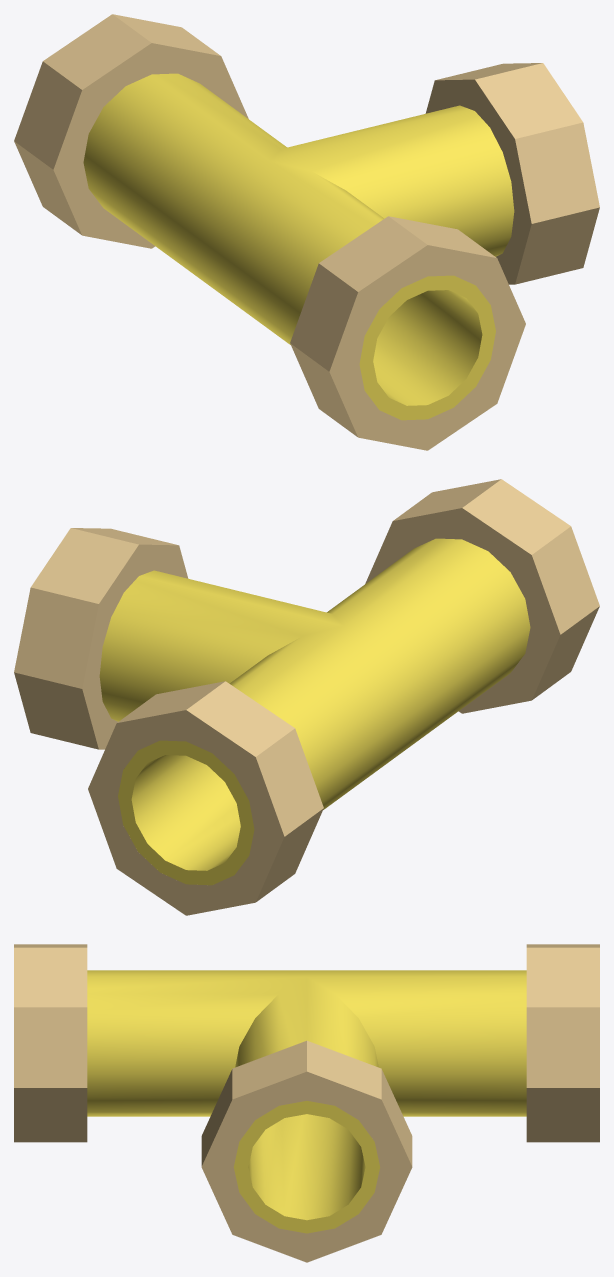
The model's file is pipe_2m_T.fbx.
3 renders of one model, top to bottom at view 1: azimuth 30°, elevation 25°; view 2: azimuth 150°, elevation 25°; view 3: azimuth 270°, elevation 25°, orthographic. The views are drawn at different scales.
Visible parts, largest first — view 1: Vert.001, Vert.004, Vert.033, Vert.034; view 2: Vert.001, Vert.033, Vert.004, Vert.034; view 3: Vert.001, Vert.034, Vert.004, Vert.033.
Boxes of the visible parts, left/top/right/bottom form: Vert.001: left=83, top=73, right=514, bottom=420; Vert.004: left=290, top=216, right=525, bottom=450; Vert.033: left=14, top=14, right=248, bottom=248; Vert.034: left=425, top=63, right=599, bottom=284; Vert.001: left=99, top=538, right=530, bottom=885; Vert.033: left=88, top=681, right=323, bottom=915; Vert.004: left=365, top=479, right=599, bottom=713; Vert.034: left=14, top=528, right=188, bottom=749; Vert.001: left=87, top=970, right=526, bottom=1233; Vert.034: left=201, top=1040, right=412, bottom=1262; Vert.004: left=14, top=944, right=87, bottom=1142; Vert.033: left=526, top=944, right=599, bottom=1142.
Bounding box in the file's own units: 136 × 72 × 200.
